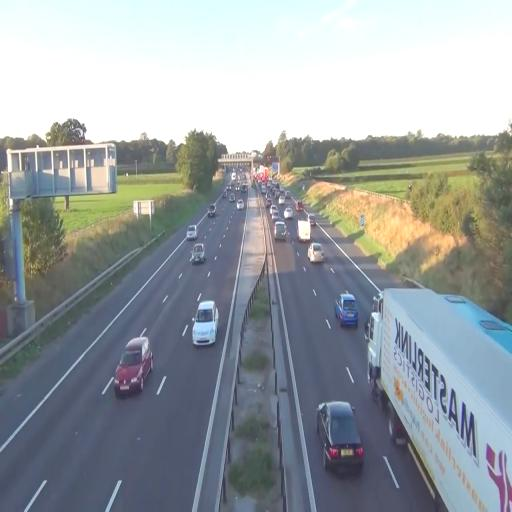vehicle: (367, 284, 512, 508), (316, 400, 364, 474), (113, 335, 154, 397), (192, 299, 220, 346), (335, 292, 358, 328), (308, 242, 324, 264), (190, 242, 206, 264), (274, 221, 288, 241), (186, 224, 197, 241)
